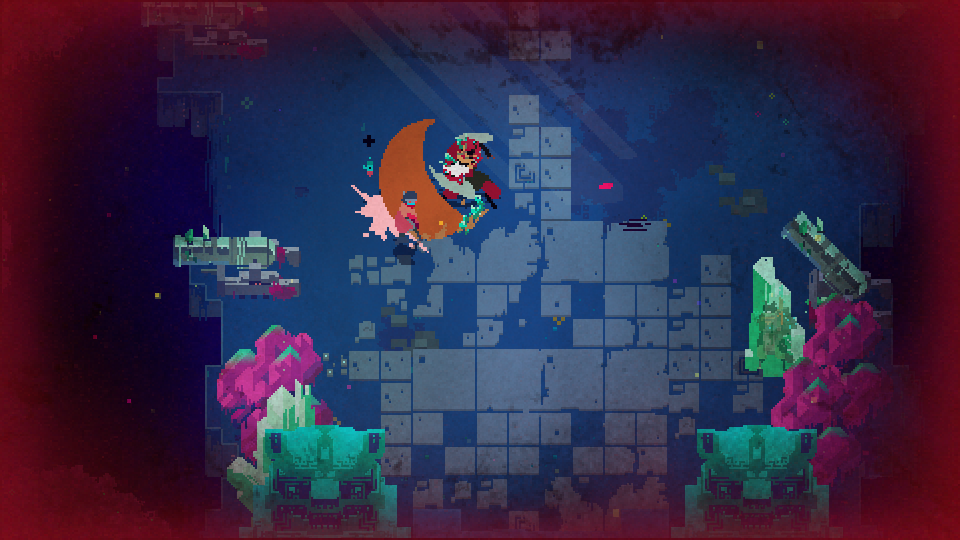hanged_man: (421, 127, 505, 236)
player: (397, 191, 422, 254)
